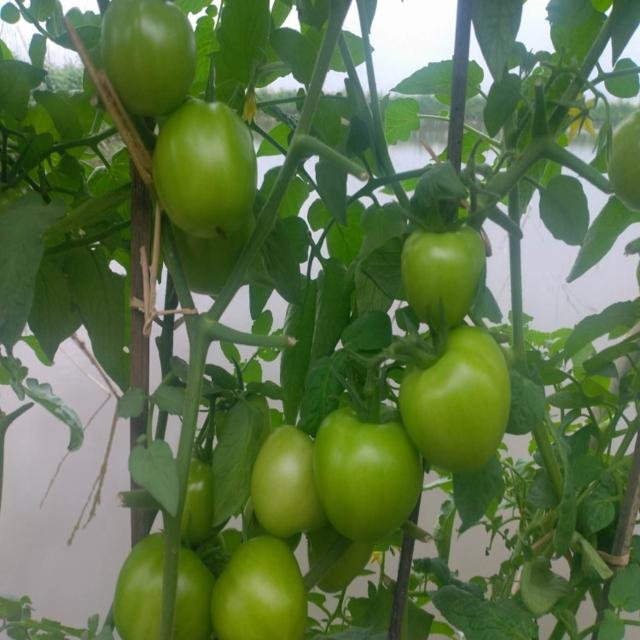tomato: (404, 339, 507, 470), (155, 108, 258, 238), (321, 411, 416, 546), (215, 537, 309, 640), (108, 4, 193, 114), (253, 424, 320, 537), (410, 232, 486, 323), (120, 540, 169, 640), (178, 554, 214, 640), (611, 121, 640, 217), (185, 451, 211, 541)
